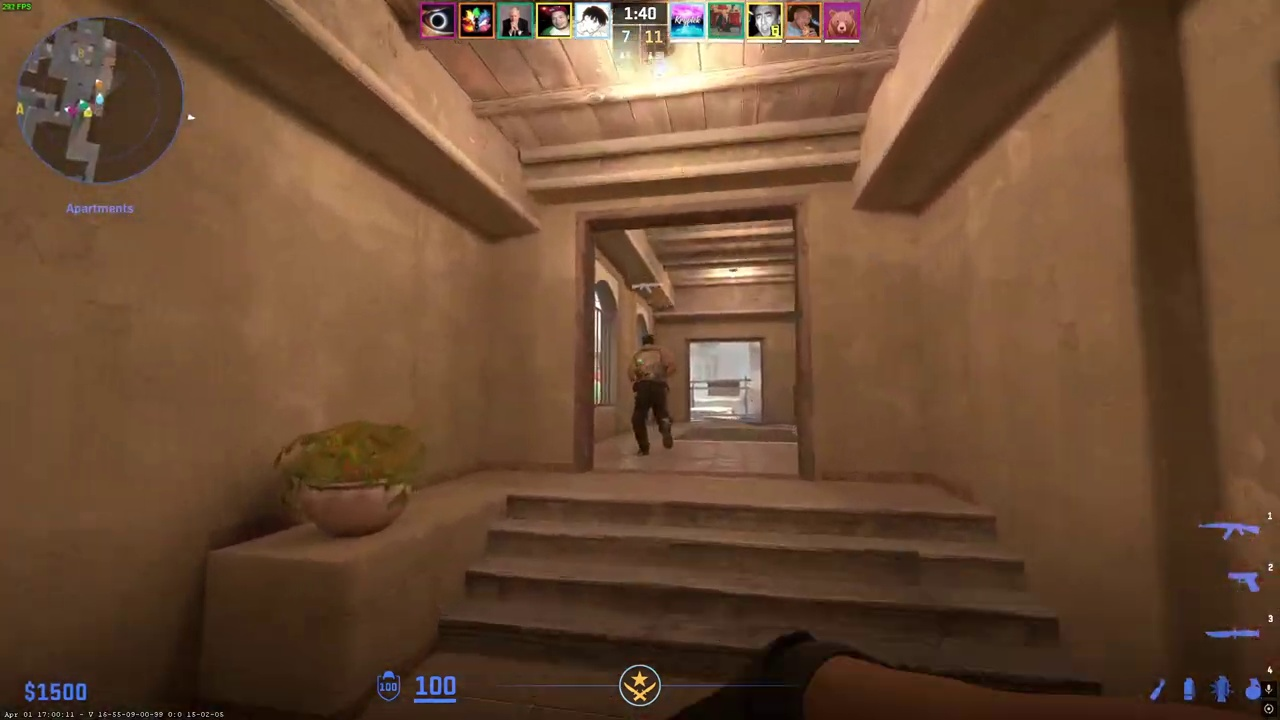Terrorist: (626, 333, 677, 457)
